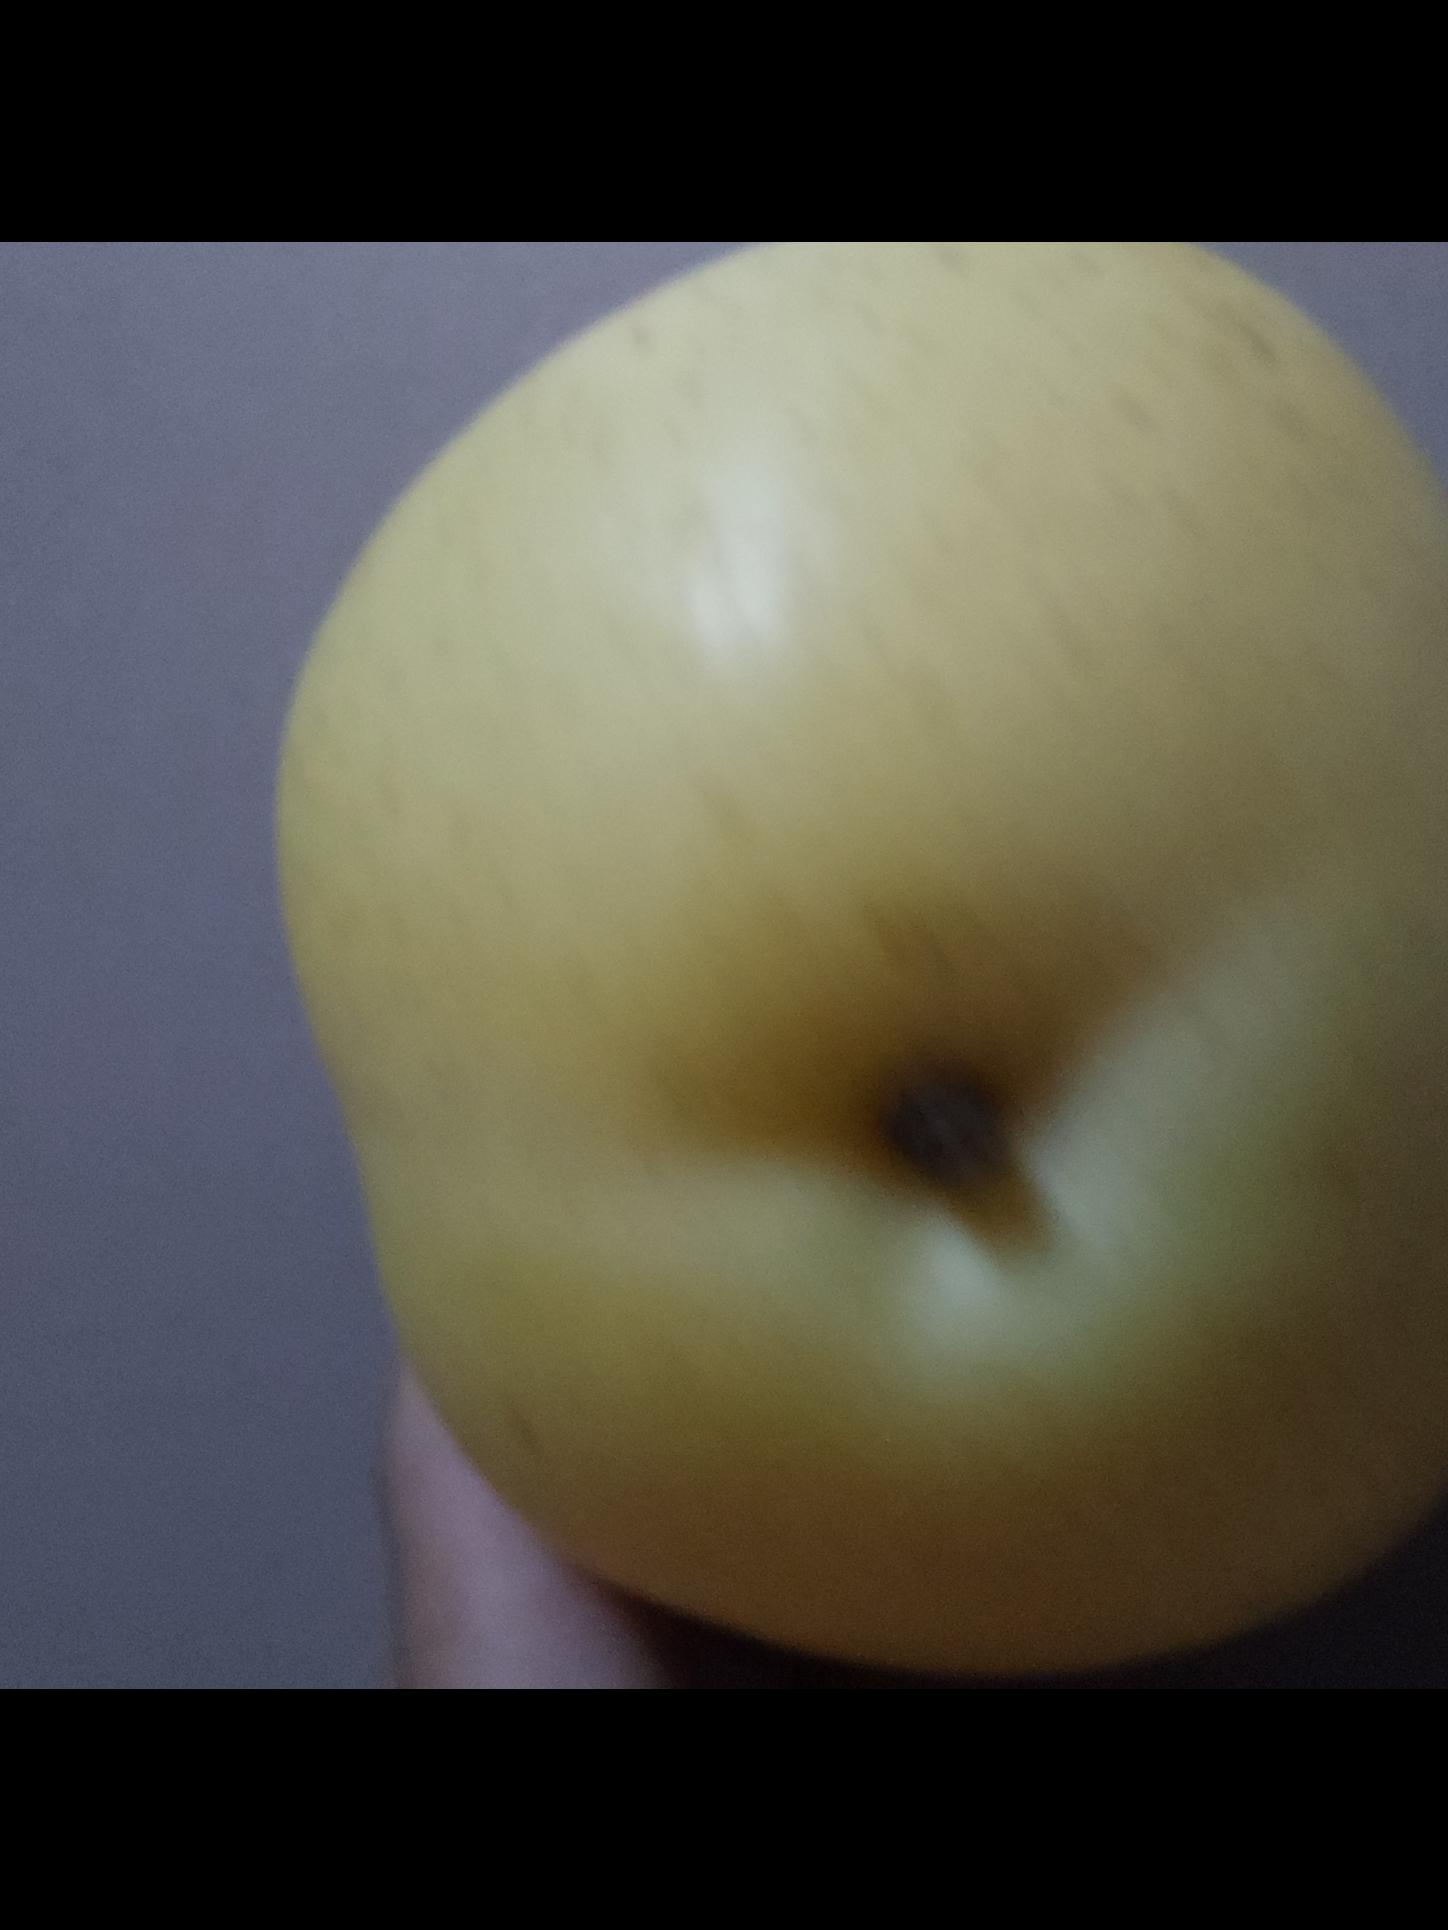Good Pear: (256, 240, 1448, 1662)
